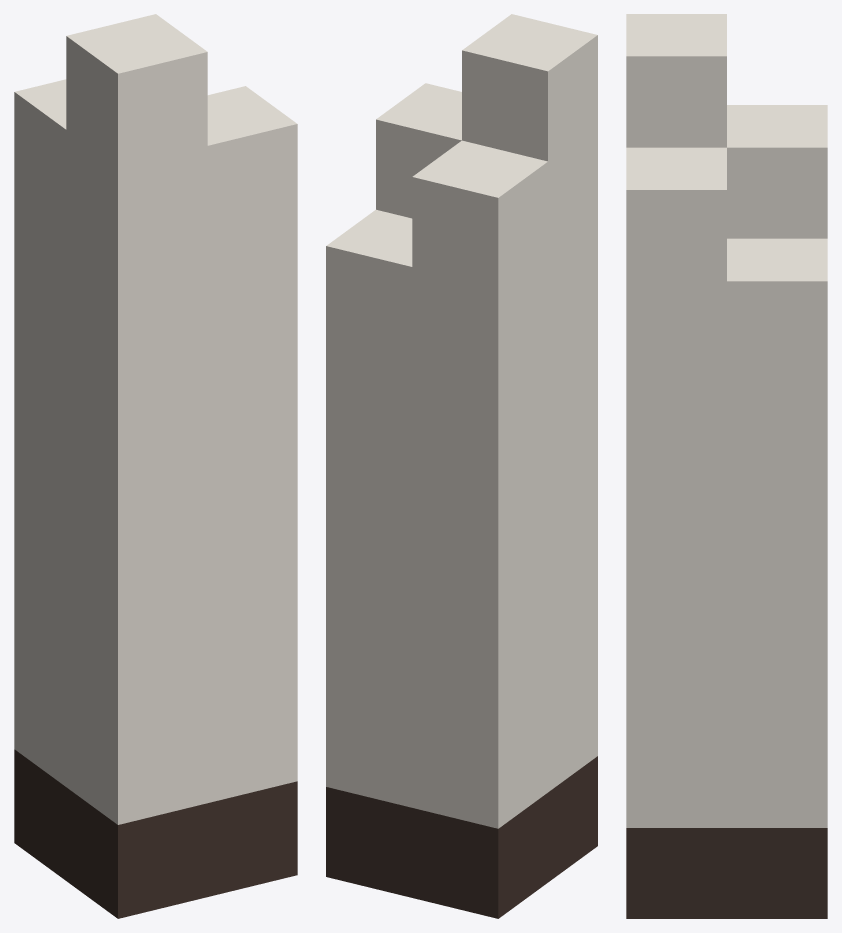
File: goat_kid__leg_fr.obj
3 renders of one model, left to right at view 1: azimuth 30°, elevation 25°; view 2: azimuth 150°, elevation 25°; view 3: azimuth 270°, elevation 25°, orthographic. The views are drawn at different scales.
Parts seen in each view (by area): view 1: goat_kid__leg_fr; view 2: goat_kid__leg_fr; view 3: goat_kid__leg_fr.
Part boxes in pixels (x1,y1,x2,y2): goat_kid__leg_fr: (14, 14, 297, 918); goat_kid__leg_fr: (326, 14, 597, 918); goat_kid__leg_fr: (626, 14, 827, 918).
Size of the model in its own units: 0.2 by 0.9 by 0.2.
1 material, 1 textured.
